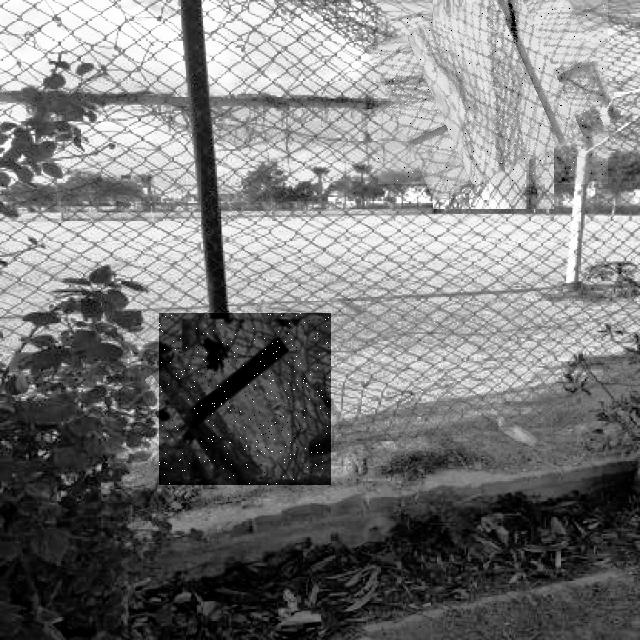anomaly-fence: (378, 0, 608, 184), (159, 313, 331, 485)
